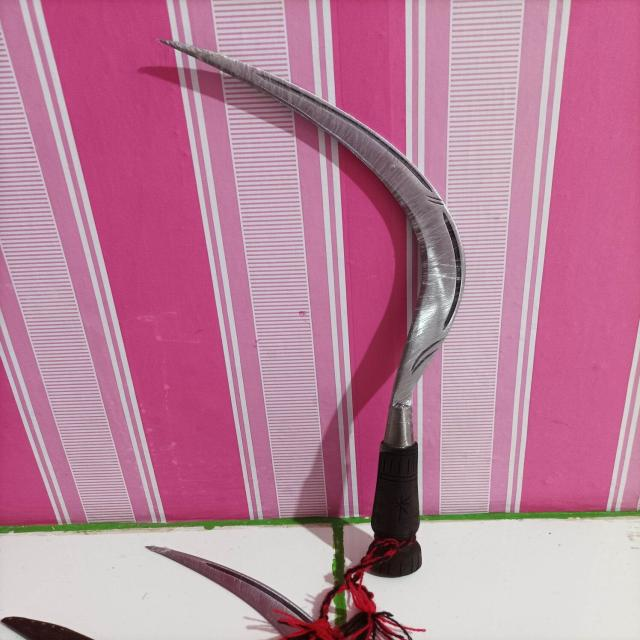Celurit: (160, 36, 468, 577)
